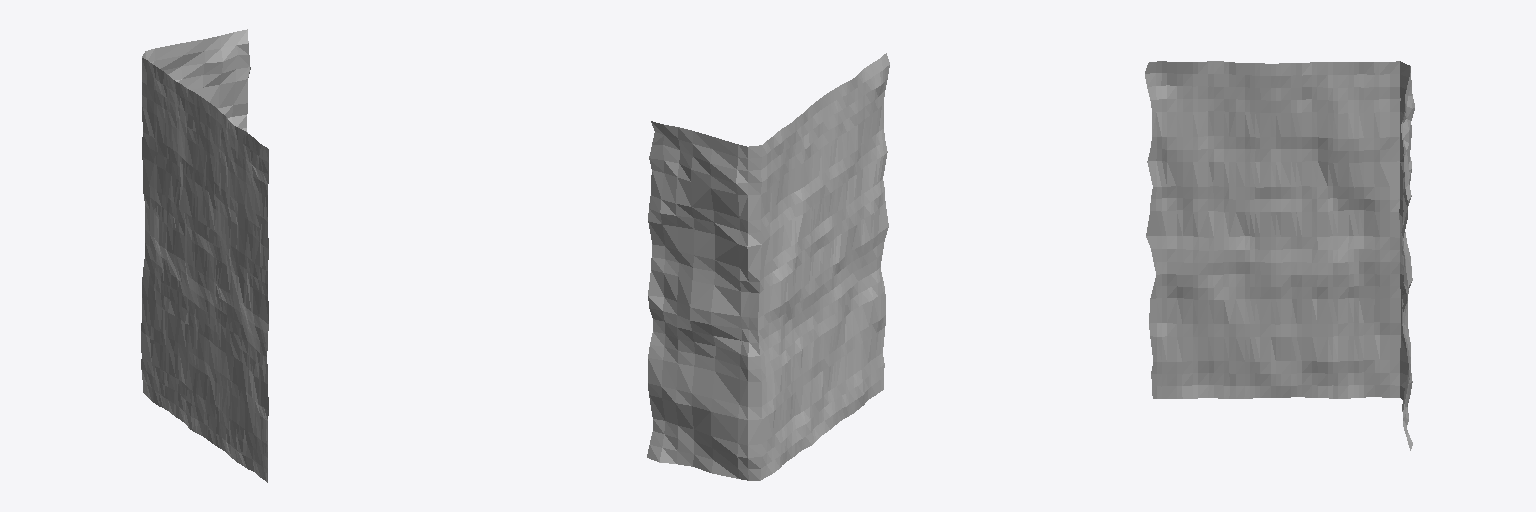
File: Floorwall1Short.obj
3 renders of one model, left to right at view 1: azimuth 30°, elevation 25°; view 2: azimuth 150°, elevation 25°; view 3: azimuth 270°, elevation 25°, orthographic.
Visible parts, largest first — view 1: FloorNoBackSidesLong:box_object1; view 2: FloorNoBackSidesLong:box_object1; view 3: FloorNoBackSidesLong:box_object1.
Part boxes in pixels (left/top/right/bottom): FloorNoBackSidesLong:box_object1: left=141, top=29, right=268, bottom=482; FloorNoBackSidesLong:box_object1: left=647, top=53, right=889, bottom=480; FloorNoBackSidesLong:box_object1: left=1145, top=61, right=1414, bottom=450.
Bounding box in the file's own units: 32.37 × 91.9 × 67.04.